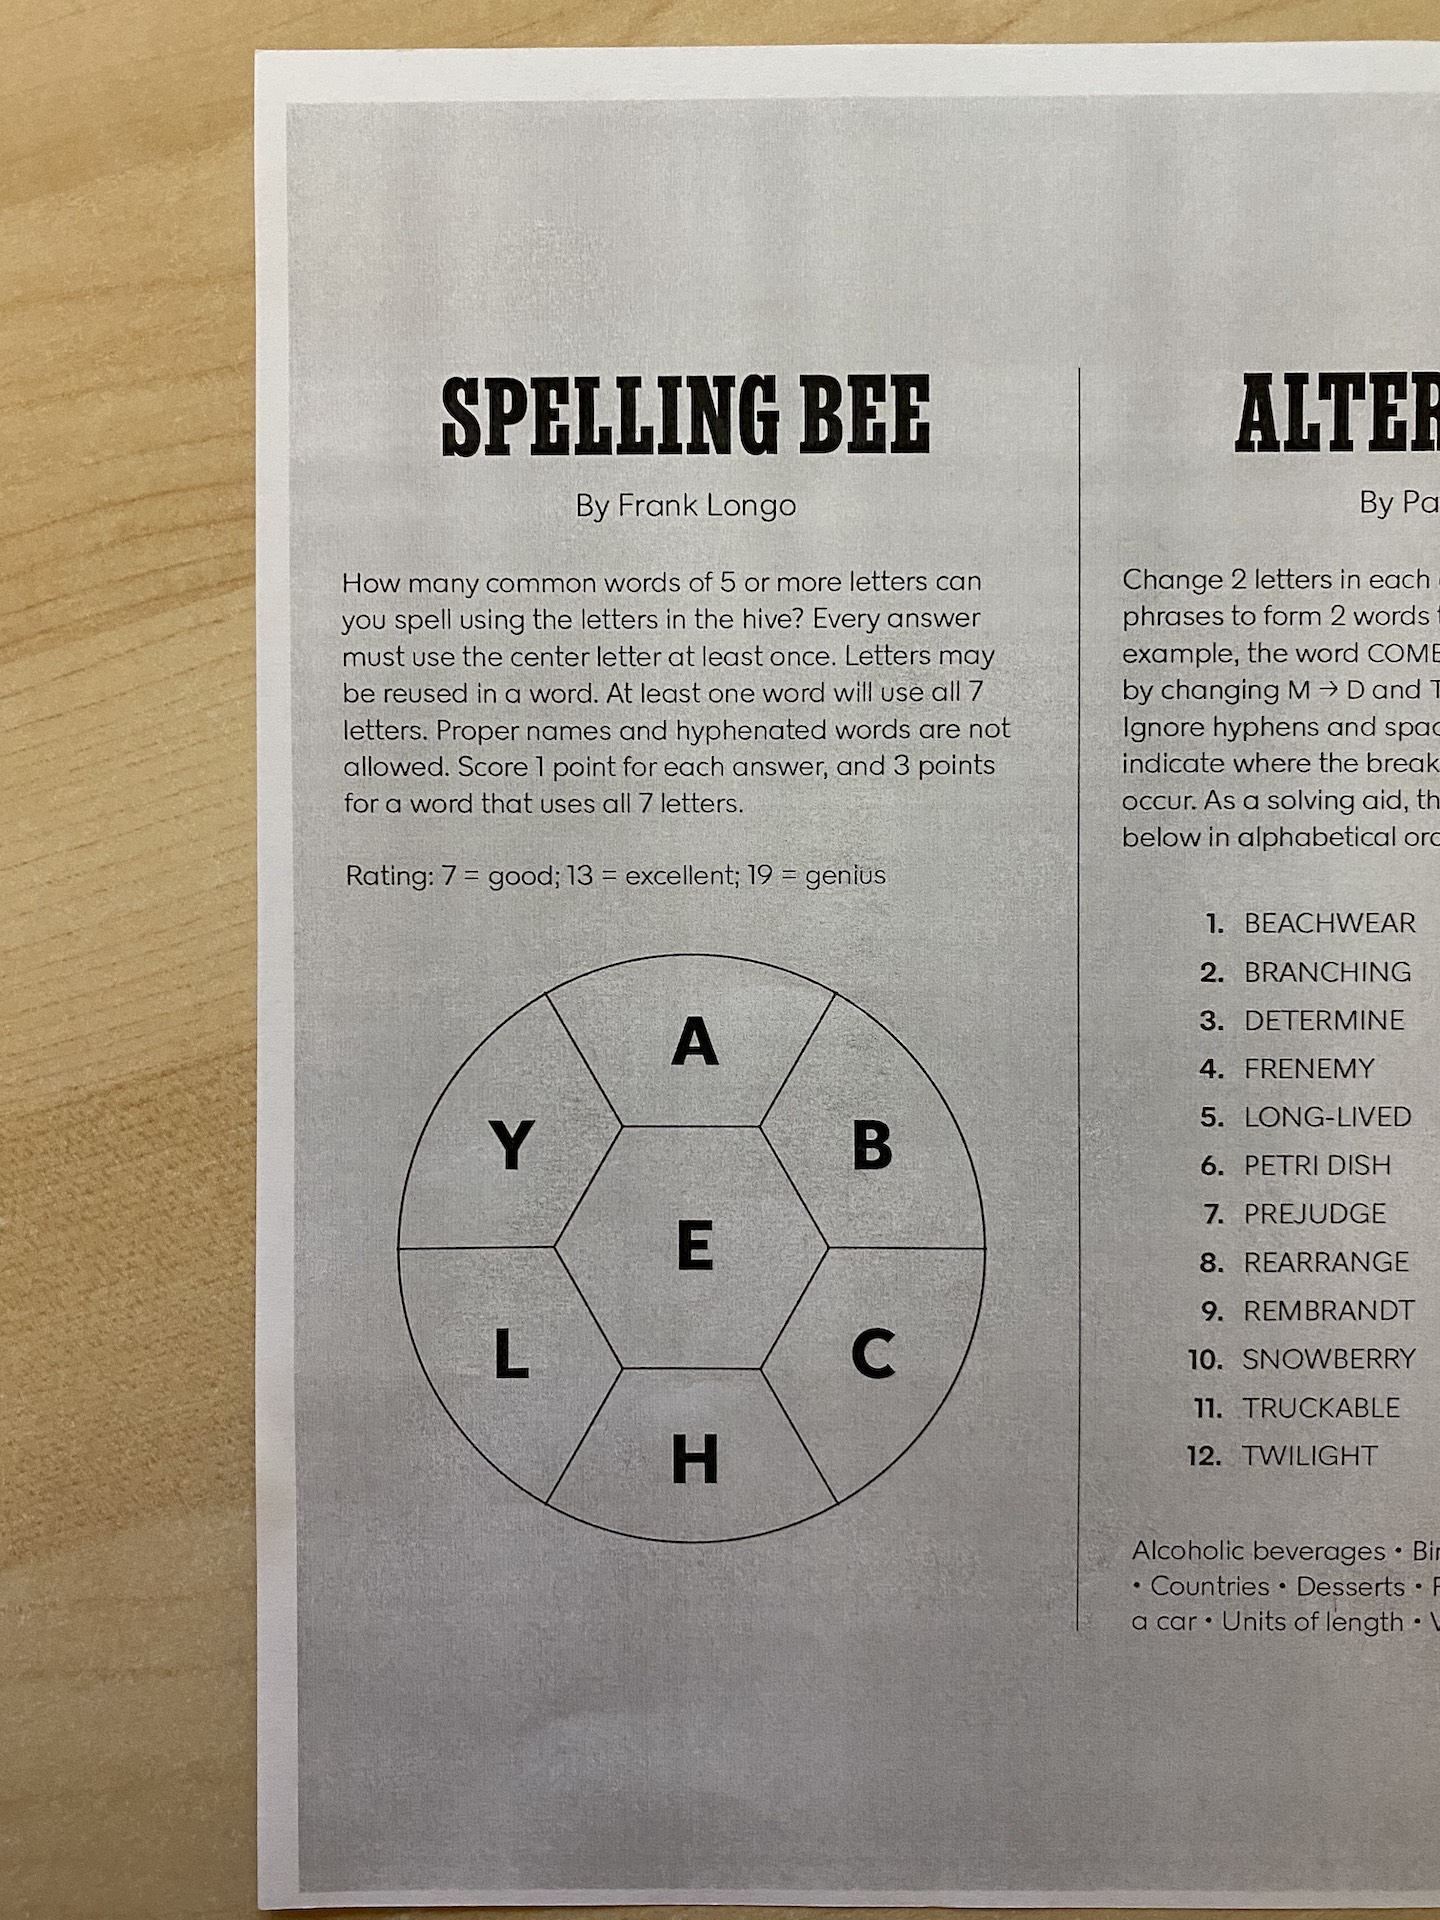Board: (383, 937, 1001, 1562)
